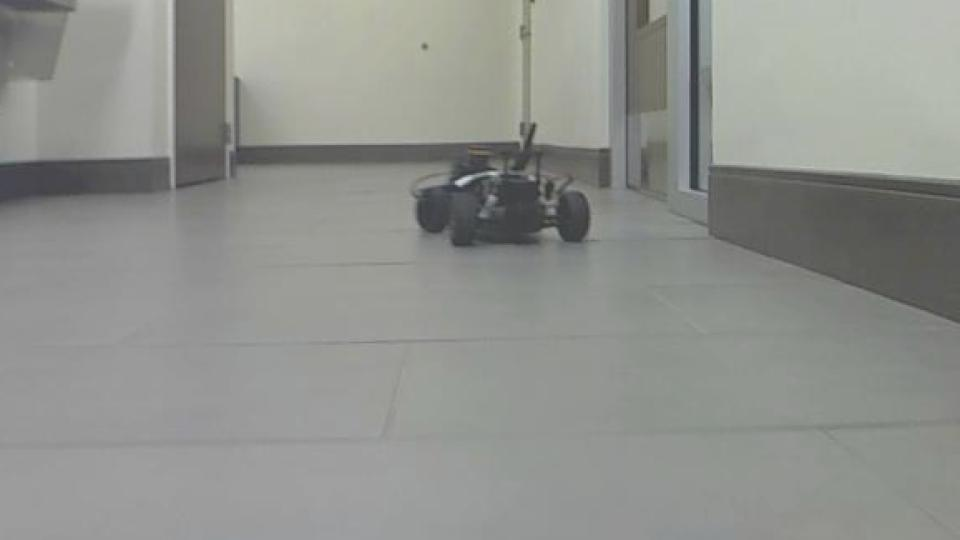car: (407, 120, 593, 250)
